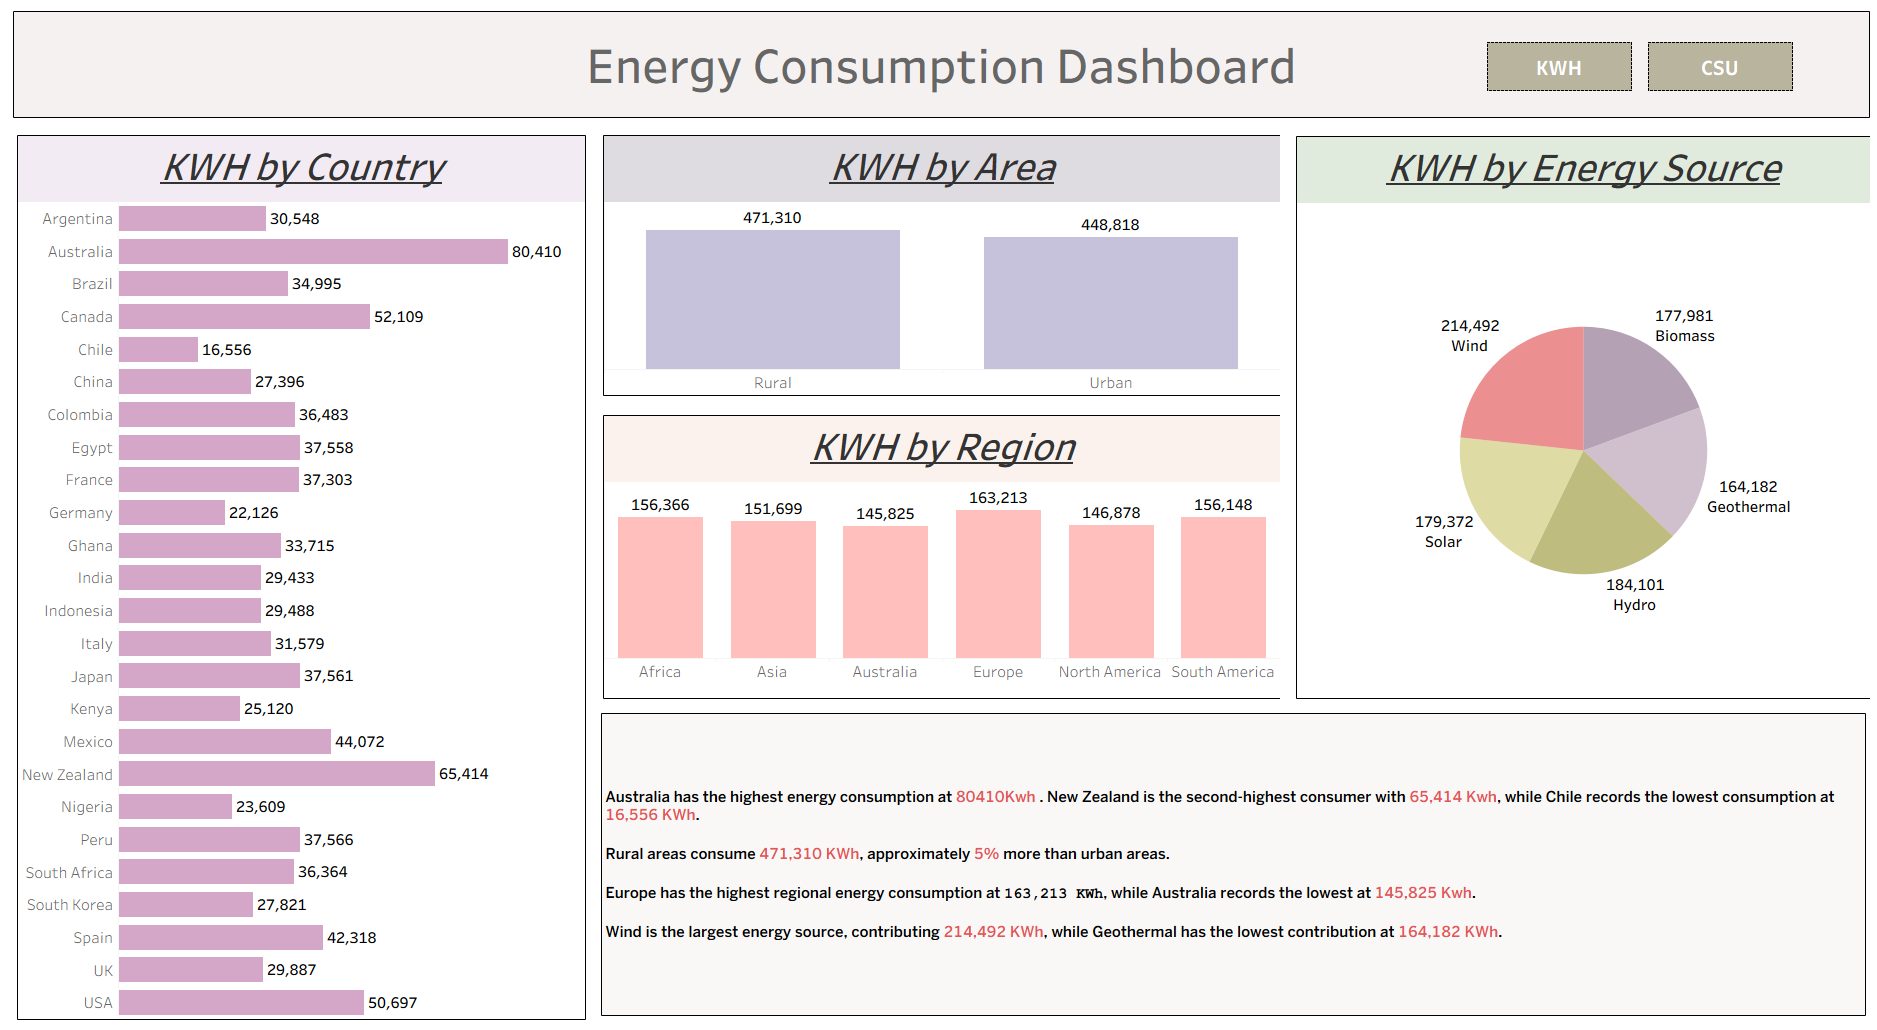

What the dashboard file says about the page in this screenshot:
{"tool":"tableau","page":{"name":"KWH","canvas":[1000,1000],"units":"permille","ordinal":1},"visuals":[{"type":"text","box":[25.9,15.3,967.4,102.2]},{"type":"dashboard-object","box":[793.6,44.6,75.4,47]},{"type":"dashboard-object","box":[877.5,44.6,75.4,47]},{"type":"worksheet","title":"KWH by Country","mark":"Automatic","rows":["COUNTRY"],"cols":["MONTHLY_USAGE_KWH"],"box":[28.4,134,296.3,848.4]},{"type":"worksheet","title":"KWH by Area","mark":"Automatic","rows":["MONTHLY_USAGE_KWH"],"cols":["URBAN_RURAL"],"box":[333.1,134,353.1,250.3]},{"type":"worksheet","title":"KWH by Energy Source","mark":"Pie","box":[694,135.1,299.3,539.4]},{"type":"worksheet","title":"KWH by Region","mark":"Automatic","rows":["MONTHLY_USAGE_KWH"],"cols":["REGION"],"box":[333.1,403.1,353.1,272.6]},{"type":"text","box":[332.5,688.6,659,290.2]}]}

Visuals, with their boxes on the dashboard's canvas, which has no fixed pixel size, in thousandths of its width and height (x1, y1, x2, y2). These are canvas units, not pixel positions in the 1877x1030 screenshot, which may show the page scaled, cropped or inside an application window:
text: l=26, t=15, r=993, b=118
dashboard-object: l=794, t=45, r=869, b=92
dashboard-object: l=878, t=45, r=953, b=92
"KWH by Country" worksheet: l=28, t=134, r=325, b=982
"KWH by Area" worksheet: l=333, t=134, r=686, b=384
"KWH by Energy Source" worksheet (Pie marks): l=694, t=135, r=993, b=674
"KWH by Region" worksheet: l=333, t=403, r=686, b=676
text: l=332, t=689, r=992, b=979
